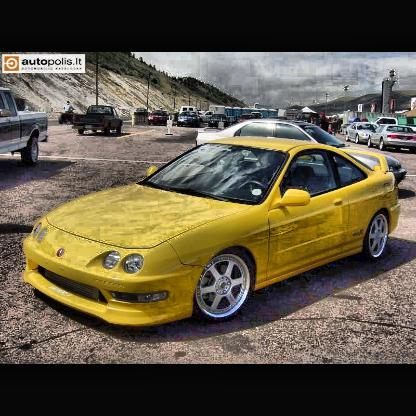Acura Integra Type R 2001: (23, 136, 403, 334)
